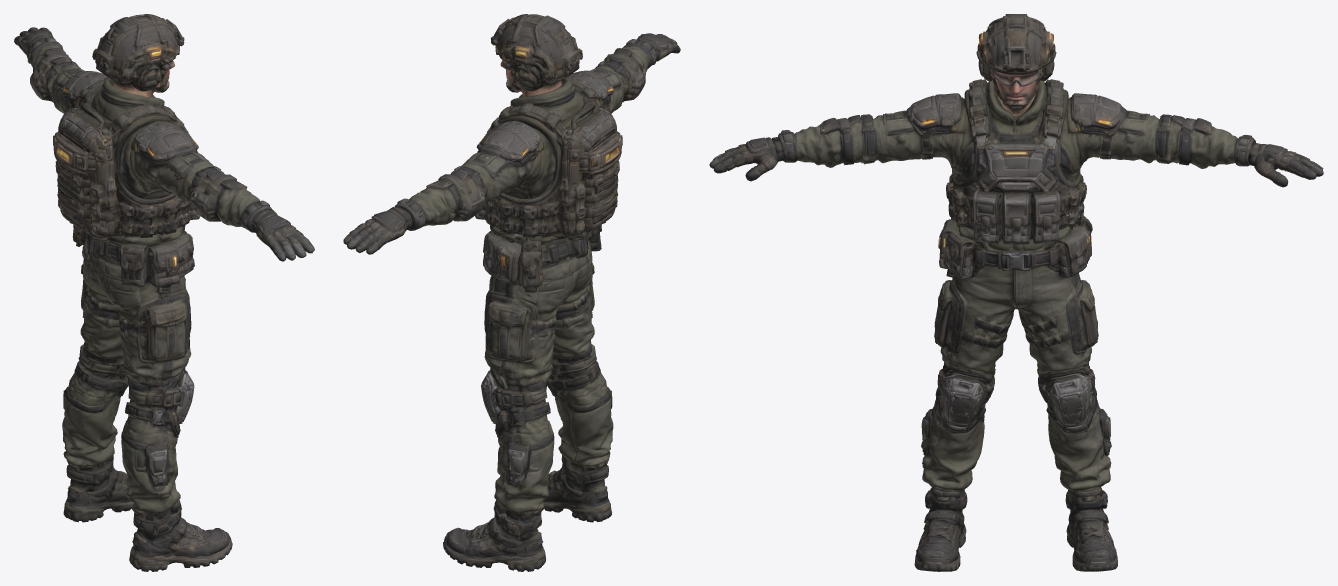
Rendered from soldier-textured-v1.glb.
3 views of the same model, side by side, from view 1: azimuth 30°, elevation 25°; view 2: azimuth 150°, elevation 25°; view 3: azimuth 270°, elevation 25° (orthographic). The views are drawn at different scales.
Parts seen in each view (by area): view 1: tripo_part_2, tripo_part_12, tripo_part_3, tripo_part_4, tripo_part_0, tripo_part_1, tripo_part_5, tripo_part_9, tripo_part_6, tripo_part_13, tripo_part_8, tripo_part_10 (+4 smaller); view 2: tripo_part_2, tripo_part_0, tripo_part_13, tripo_part_4, tripo_part_12, tripo_part_5, tripo_part_1, tripo_part_8, tripo_part_6, tripo_part_3, tripo_part_9, tripo_part_11 (+4 smaller); view 3: tripo_part_1, tripo_part_2, tripo_part_3, tripo_part_13, tripo_part_12, tripo_part_0, tripo_part_5, tripo_part_6, tripo_part_9, tripo_part_8, tripo_part_7, tripo_part_11 (+4 smaller).
Boxes of the visible parts, x1,y1,x2,y2 form: tripo_part_2: [80, 239, 191, 386]; tripo_part_12: [121, 367, 194, 513]; tripo_part_3: [131, 121, 272, 232]; tripo_part_4: [53, 103, 119, 240]; tripo_part_0: [62, 342, 128, 468]; tripo_part_1: [76, 77, 200, 237]; tripo_part_5: [92, 14, 184, 92]; tripo_part_9: [129, 500, 232, 571]; tripo_part_6: [72, 224, 194, 293]; tripo_part_13: [26, 37, 107, 113]; tripo_part_8: [63, 455, 133, 522]; tripo_part_10: [251, 208, 314, 261]; tripo_part_2: [484, 239, 594, 386]; tripo_part_0: [481, 368, 554, 520]; tripo_part_13: [395, 121, 544, 230]; tripo_part_4: [555, 103, 622, 240]; tripo_part_12: [547, 342, 613, 466]; tripo_part_5: [490, 14, 582, 92]; tripo_part_1: [475, 77, 598, 237]; tripo_part_8: [443, 500, 545, 571]; tripo_part_6: [483, 225, 601, 292]; tripo_part_3: [568, 39, 657, 113]; tripo_part_9: [543, 455, 611, 522]; tripo_part_11: [343, 206, 413, 254]; tripo_part_1: [946, 79, 1086, 244]; tripo_part_2: [934, 265, 1098, 378]; tripo_part_3: [778, 93, 965, 167]; tripo_part_13: [1067, 93, 1255, 168]; tripo_part_12: [921, 362, 994, 491]; tripo_part_0: [1038, 362, 1111, 495]; tripo_part_5: [976, 14, 1056, 110]; tripo_part_6: [938, 215, 1092, 278]; tripo_part_9: [914, 487, 967, 571]; tripo_part_8: [1065, 487, 1117, 571]; tripo_part_7: [986, 80, 1046, 135]; tripo_part_11: [1247, 142, 1323, 187].
Bounding box in the file's own units: 0.2463 × 0.9448 × 0.9804.
17 materials, 17 textured.
